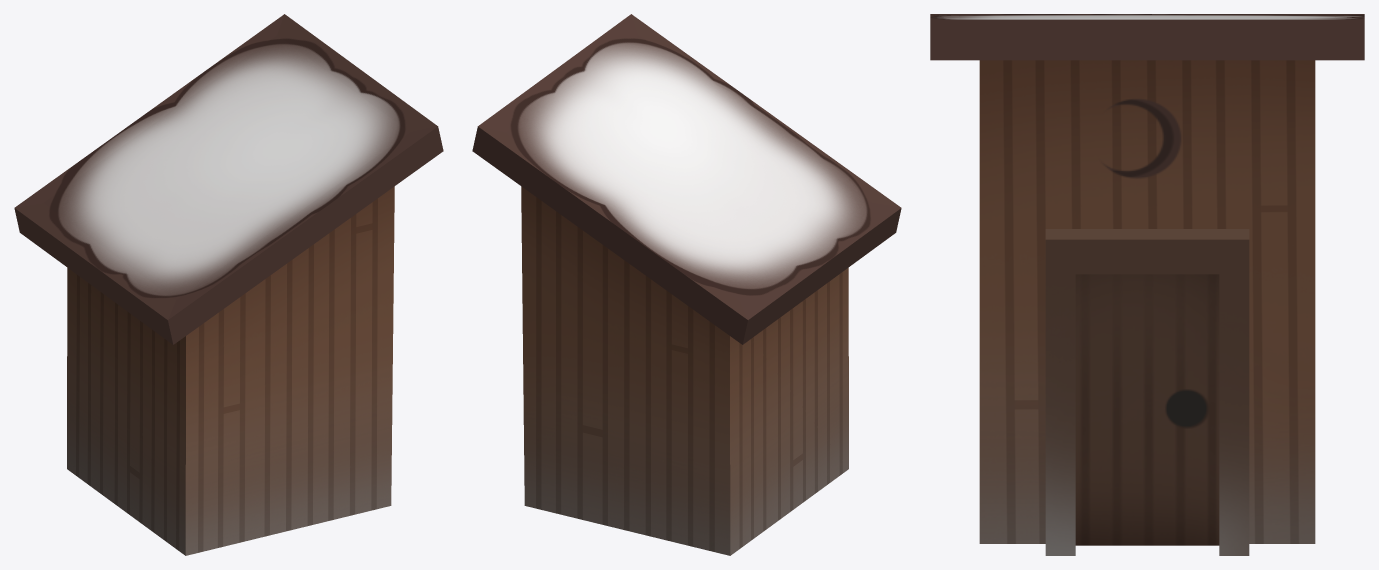
The model's file is Outhouse.fbx.
The picture shows the model from 3 angles, left to right: view 1: azimuth 30°, elevation 25°; view 2: azimuth 150°, elevation 25°; view 3: azimuth 270°, elevation 25°; orthographic projection. The views are drawn at different scales.
Visible parts, largest first — view 1: Cube; view 2: Cube; view 3: Cube.
Part boxes in pixels (x1,y1,x2,y2): Cube: (14,14,443,555); Cube: (472,14,901,555); Cube: (930,14,1364,555).
Size of the model in its own units: 239 by 320 by 231.
